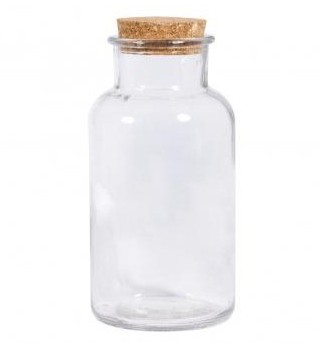glass_bottle: (85, 13, 241, 333)
